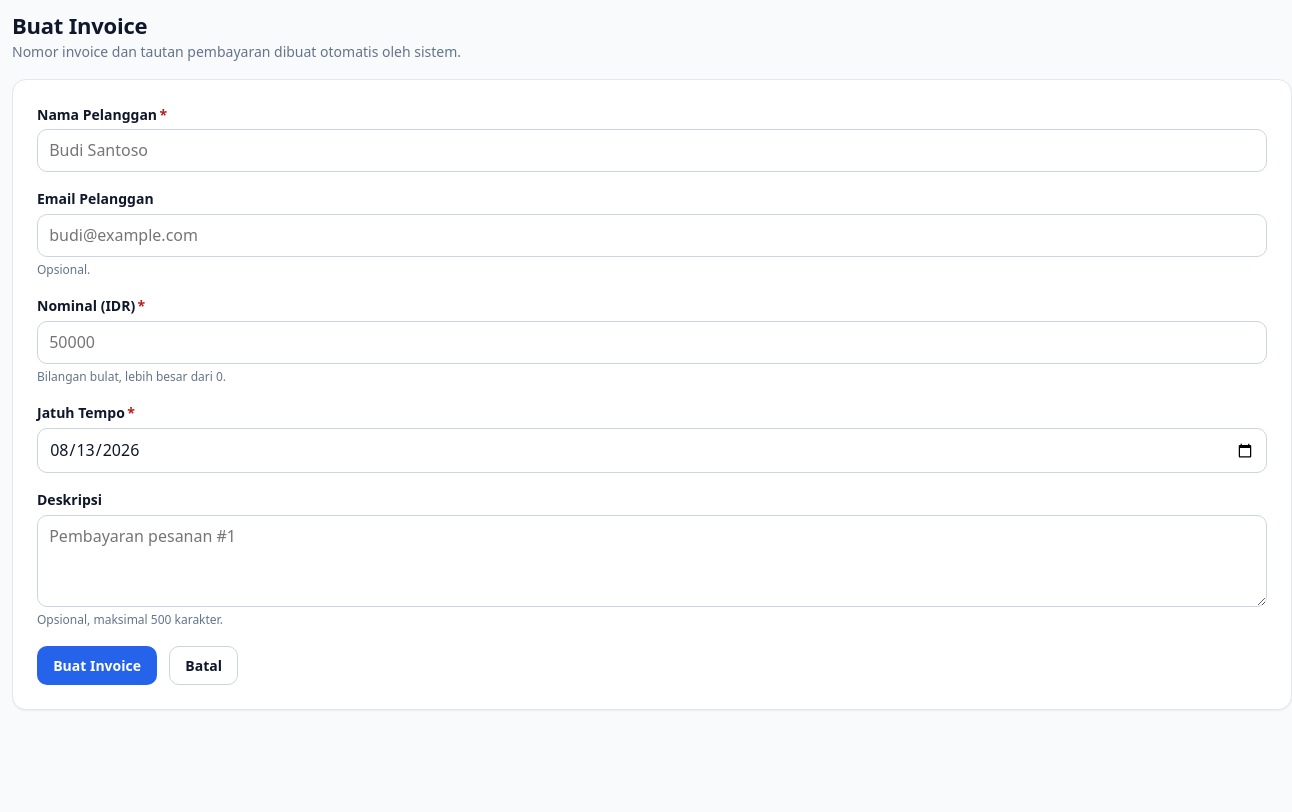
Test case: amount validation (SRS §4.5: amount > 0) › rejects zero
Type "Budi" into the field labelled "Nama Pelanggan*" at (652, 151), box [37,130,1267,172]
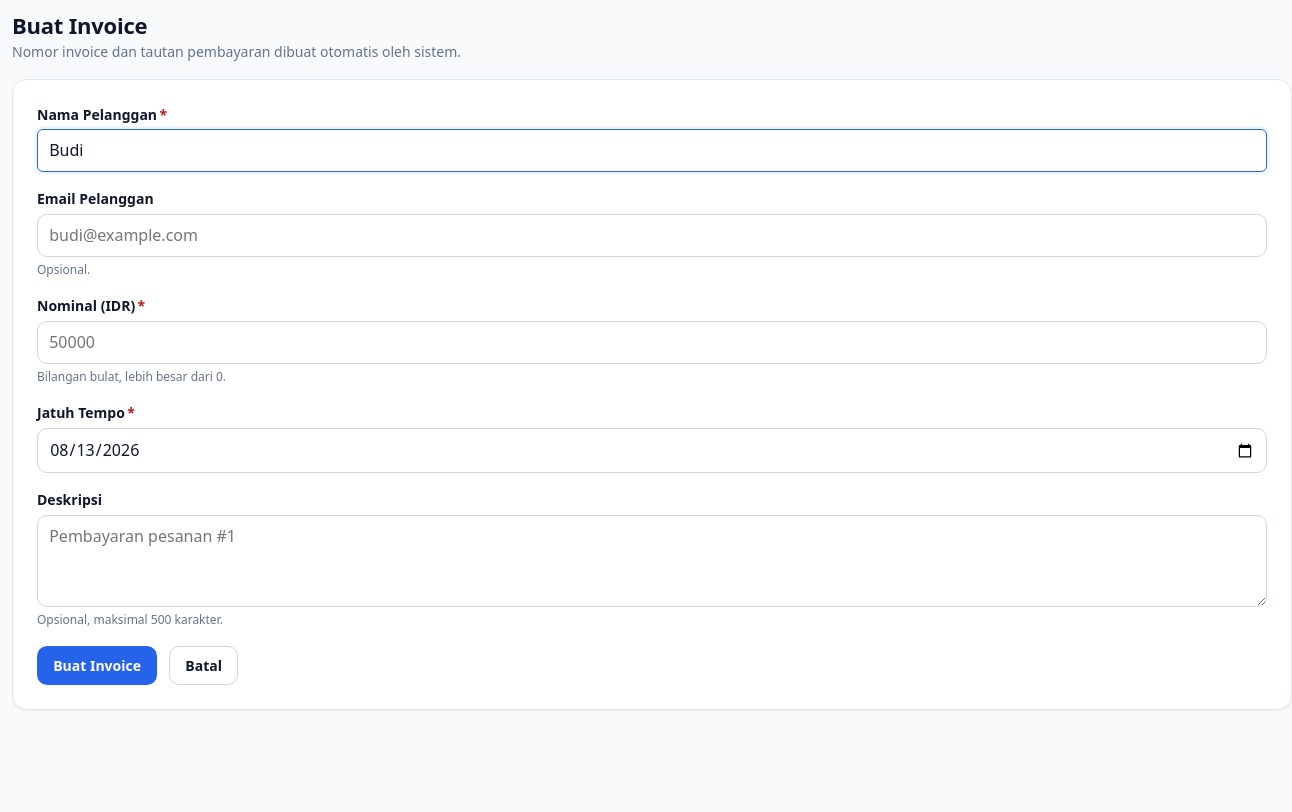
Type "0" into the number field labelled "Nominal (IDR)*" at (652, 342), box [37,321,1267,364]
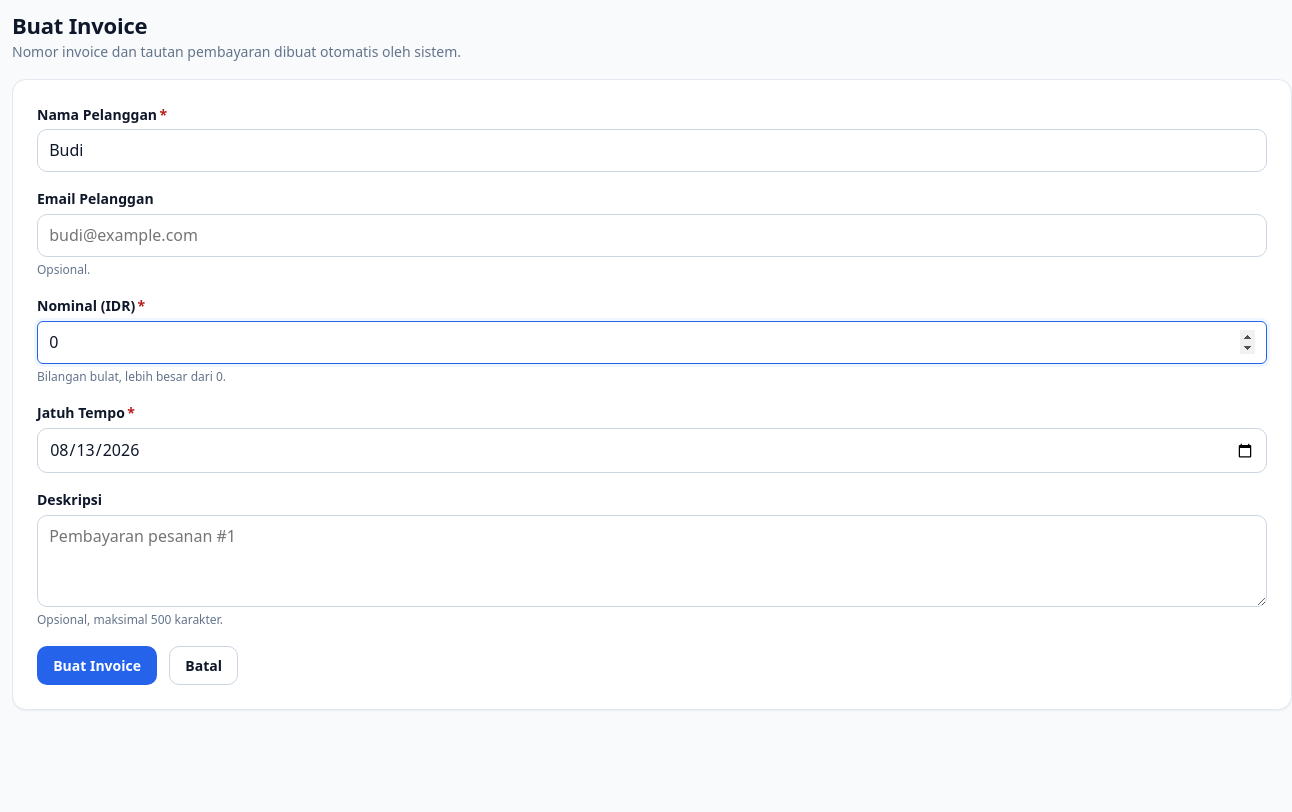
Click the button "Buat Invoice" at (97, 665), box [37,646,157,685]
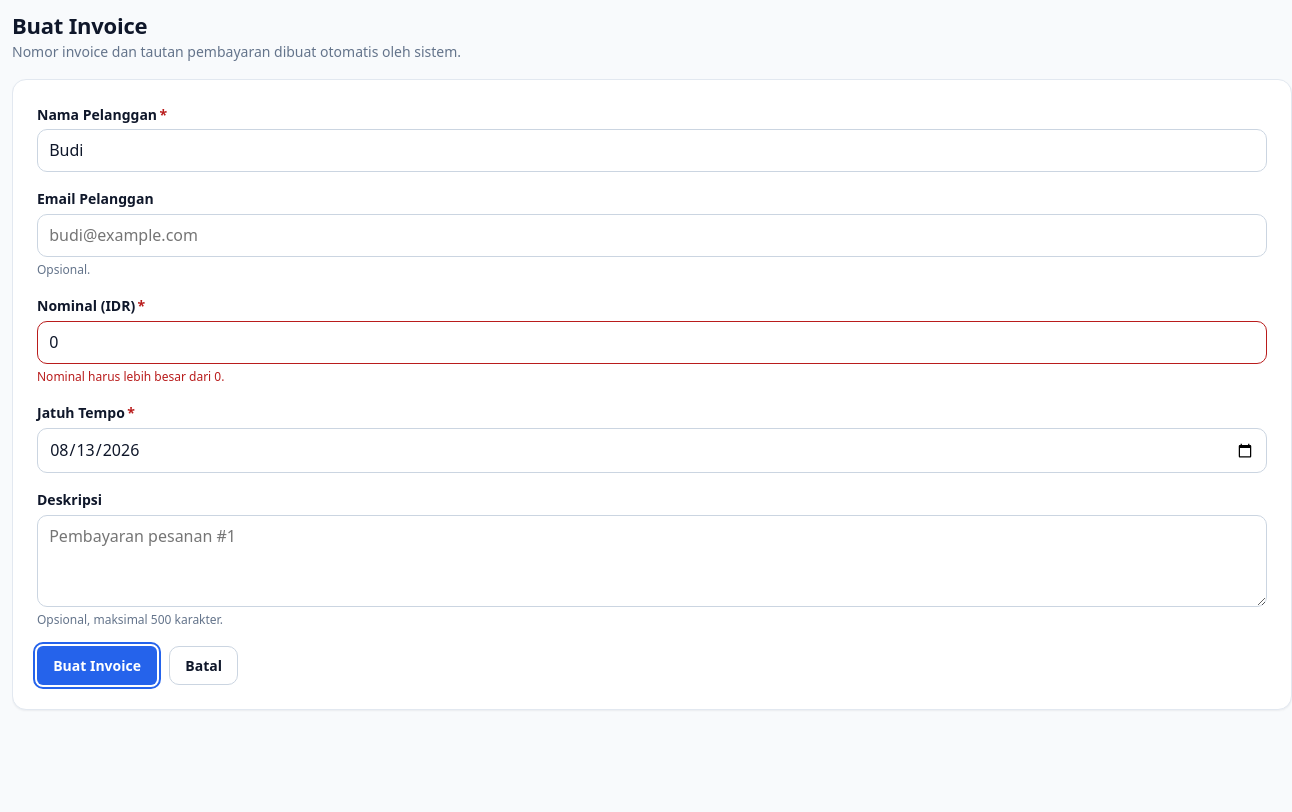
Result: the text "Nominal harus lebih besar dari 0." is shown at [37,368,224,385]
